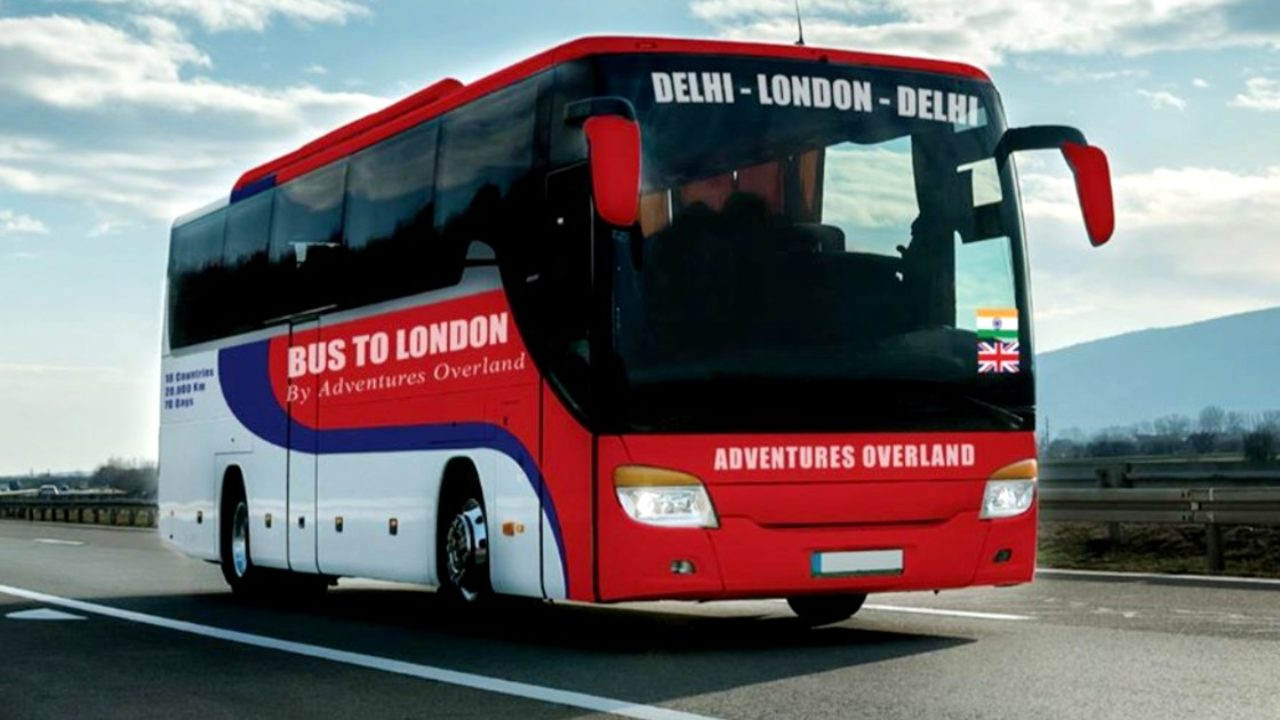bus: (155, 32, 1115, 611)
